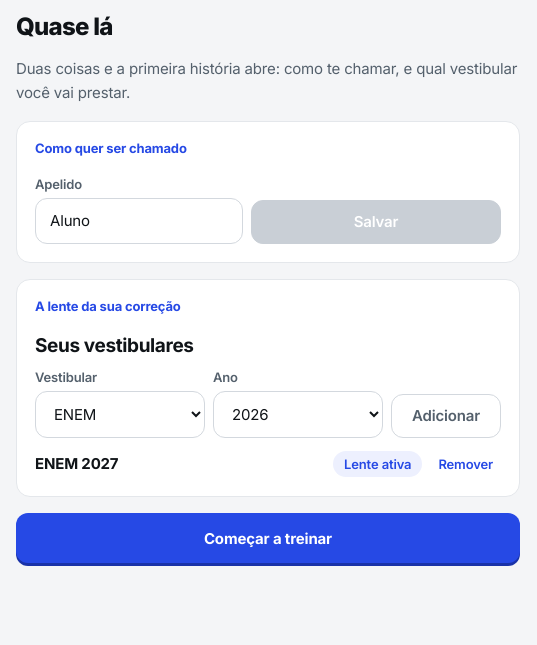
Test case: onboarding › vestibular repetido mostra o recado da API
The image size is (537, 645).
Select "ENEM" in the dropdown labelled "Vestibular": (120, 414) [35,391,205,438]
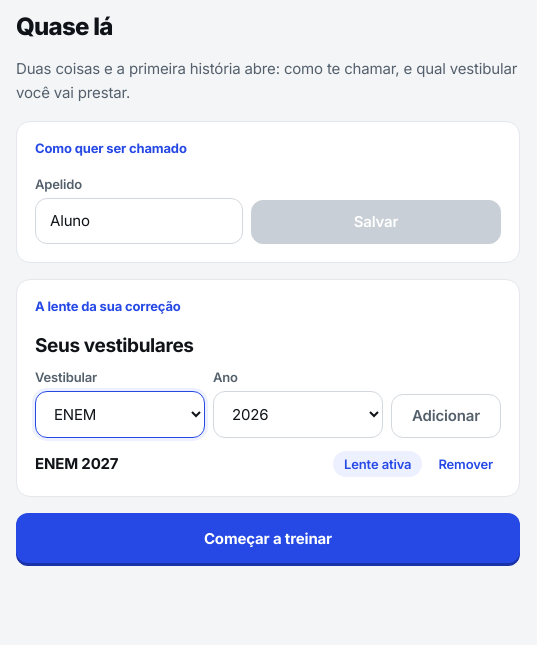
Select "2027" in the dropdown labelled "Ano": (298, 414) [213,391,383,438]
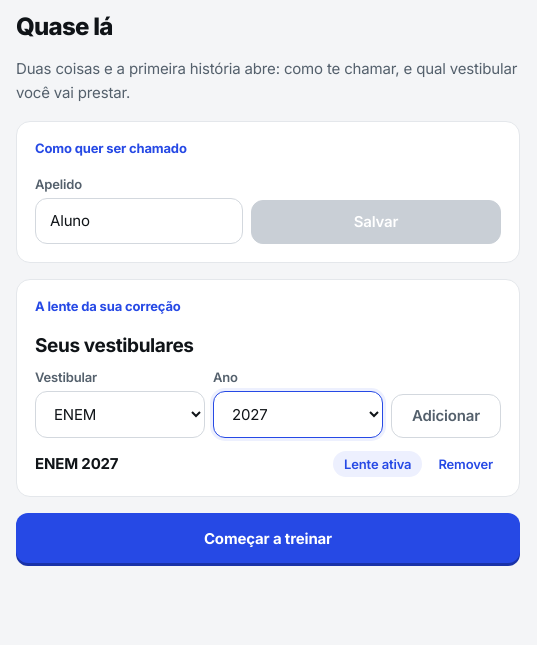
Click the button "Adicionar": (446, 416) [391,394,501,438]
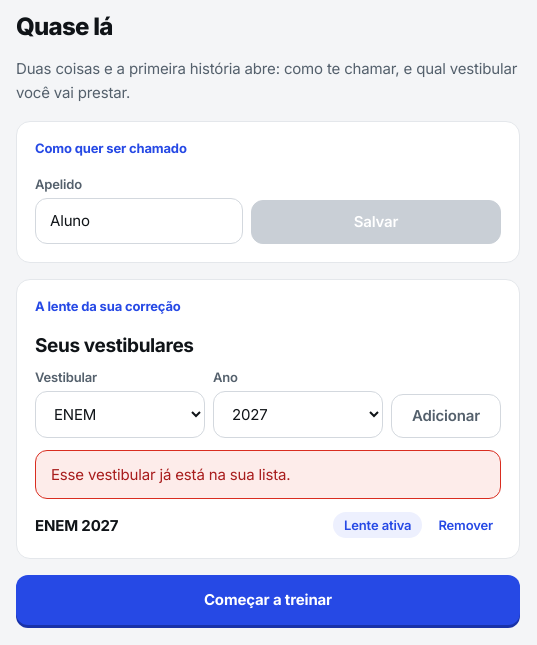
Now the message shows "já está na sua lista", box [51,465,290,484]
